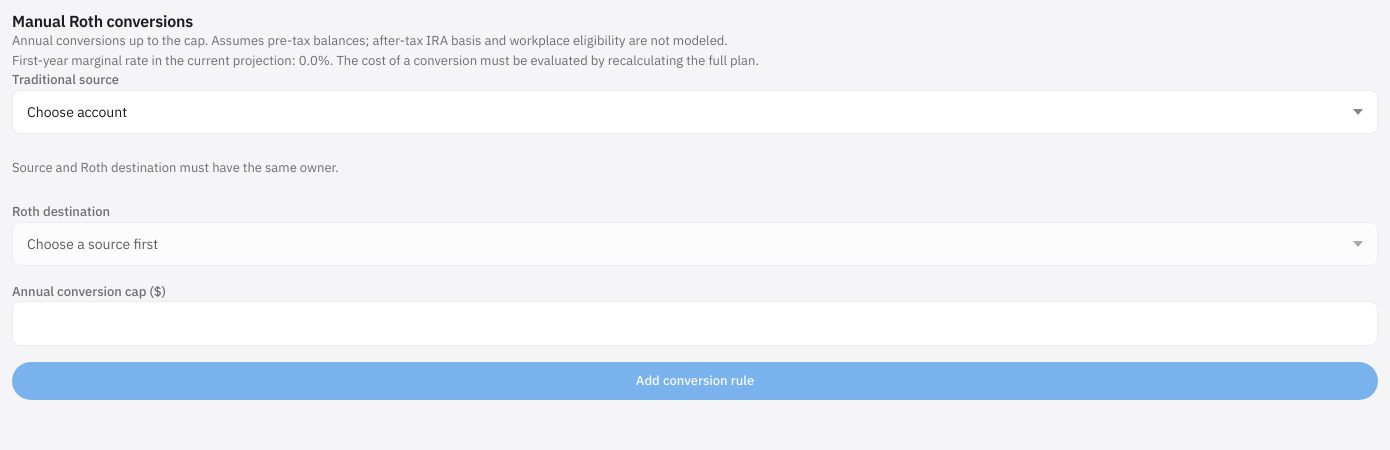
Test: names the person who lacks a Roth account by label, not by owner value
Select "Traditional (Partner)" in the dropdown labelled "Traditional source". click: (695, 112)
box: [12, 90, 1378, 134]
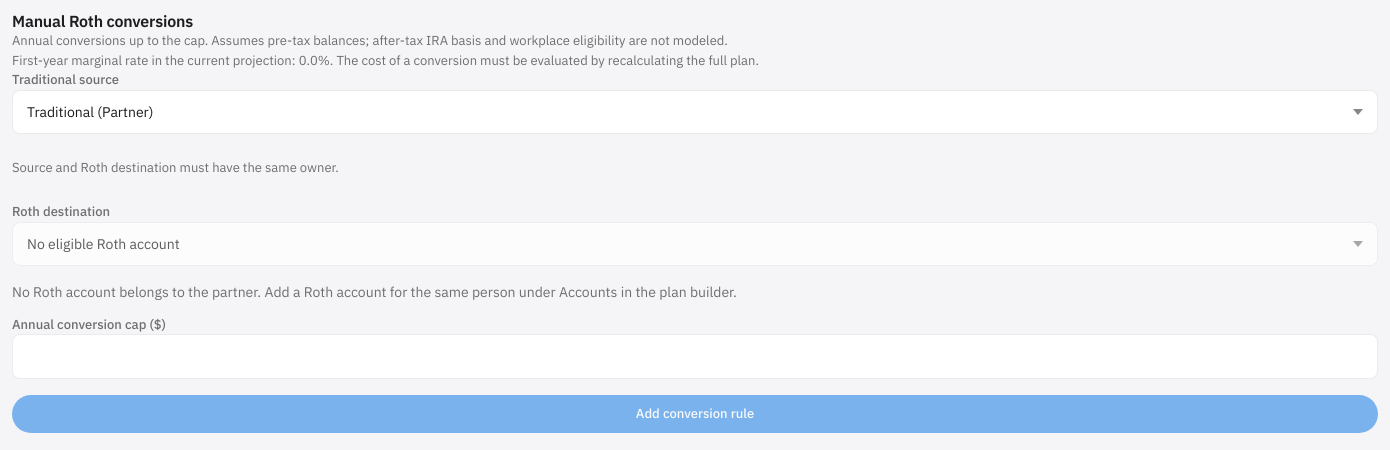
Expected: the message shows "No Roth account belongs to the partner. Add a Roth account for the same person", [12, 283, 737, 301]
